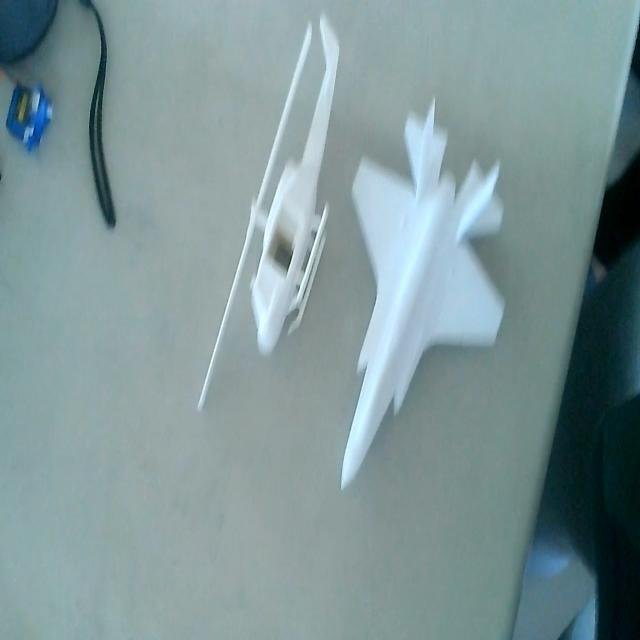Helicopter: (192, 12, 342, 422)
Jet: (341, 98, 508, 485)
